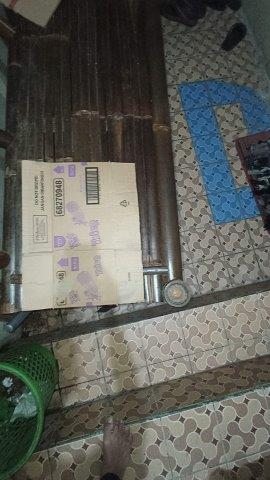kardus: (22, 162, 143, 310)
